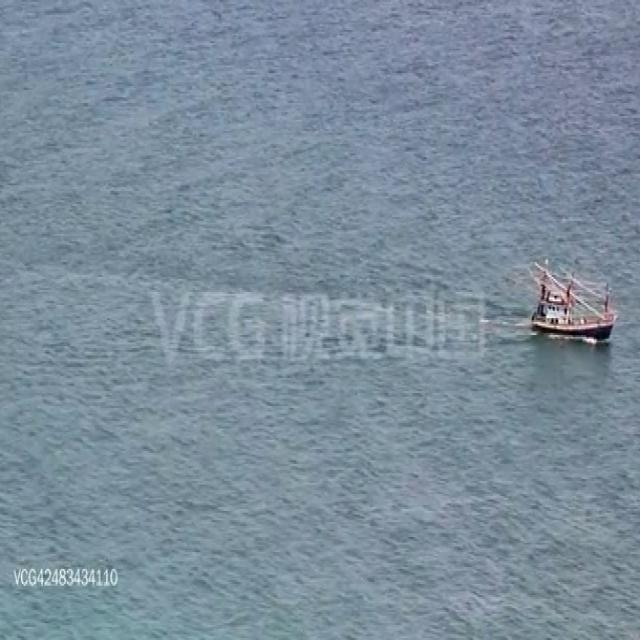fishing boat: (526, 255, 617, 343)
